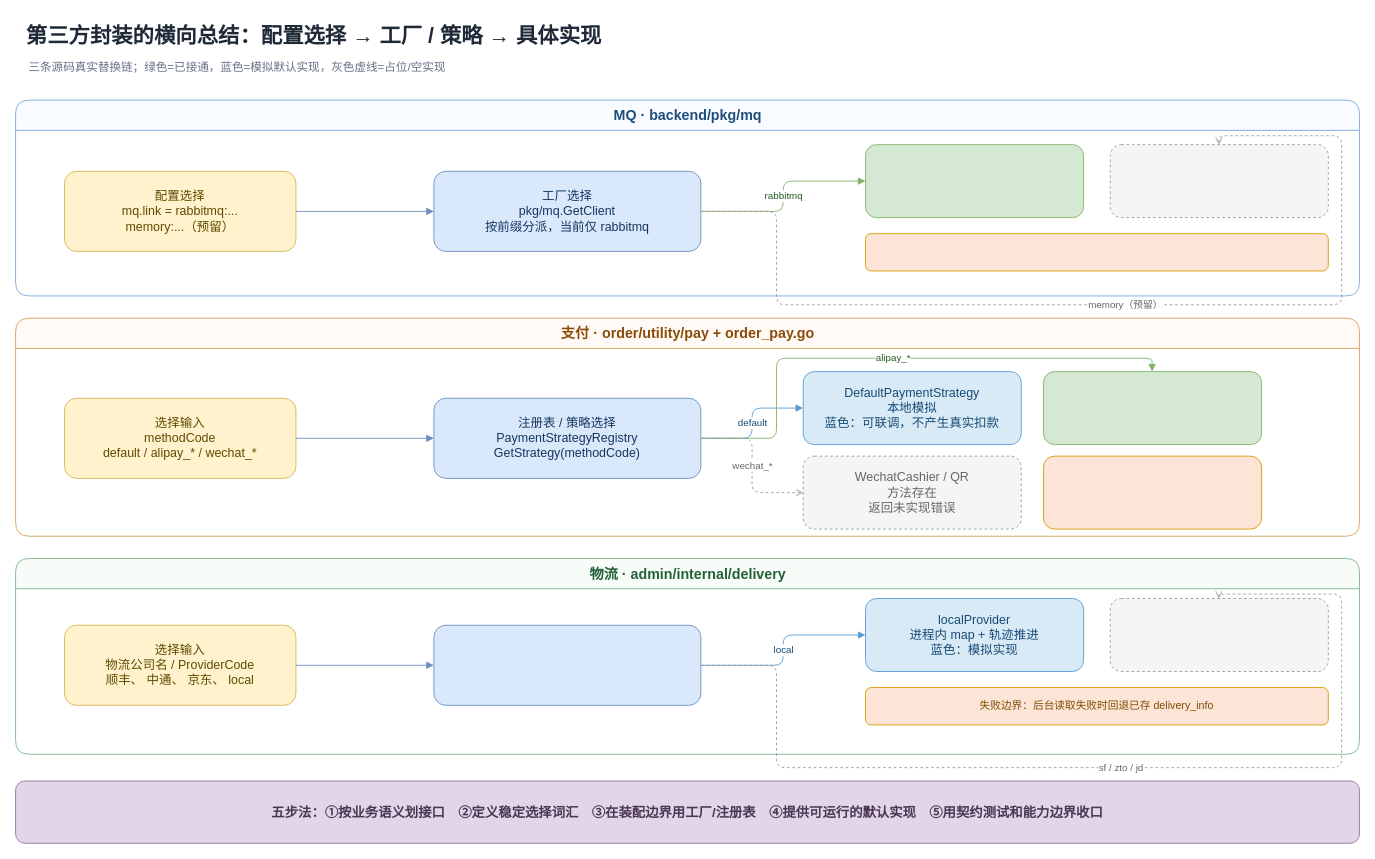
The diagram is 1375 pixels wide and 859 high, and some of its shapes have lost their labels. Each missing label, with the centre of its shape:
AlipayCashier / QR 支付宝适配器 显式 AlipayConfig: pixel 1152 408
emptyProvider SF / ZTO / JD ErrNotImplemented: pixel 1218 635
MemoryClient 内存实现骨架 签名未对齐，未接工厂: pixel 1218 181
RabbitMQClient RabbitMQ 适配器 已接通: pixel 974 181
解析 + 工厂 ParseProviderCode NewProvider(code): pixel 567 664
边界：批量发布也仍有占位实现: pixel 1096 252
配置驱动边界：支付宝配置由启动代码读取；支付方式仍由代码注册: pixel 1152 492
